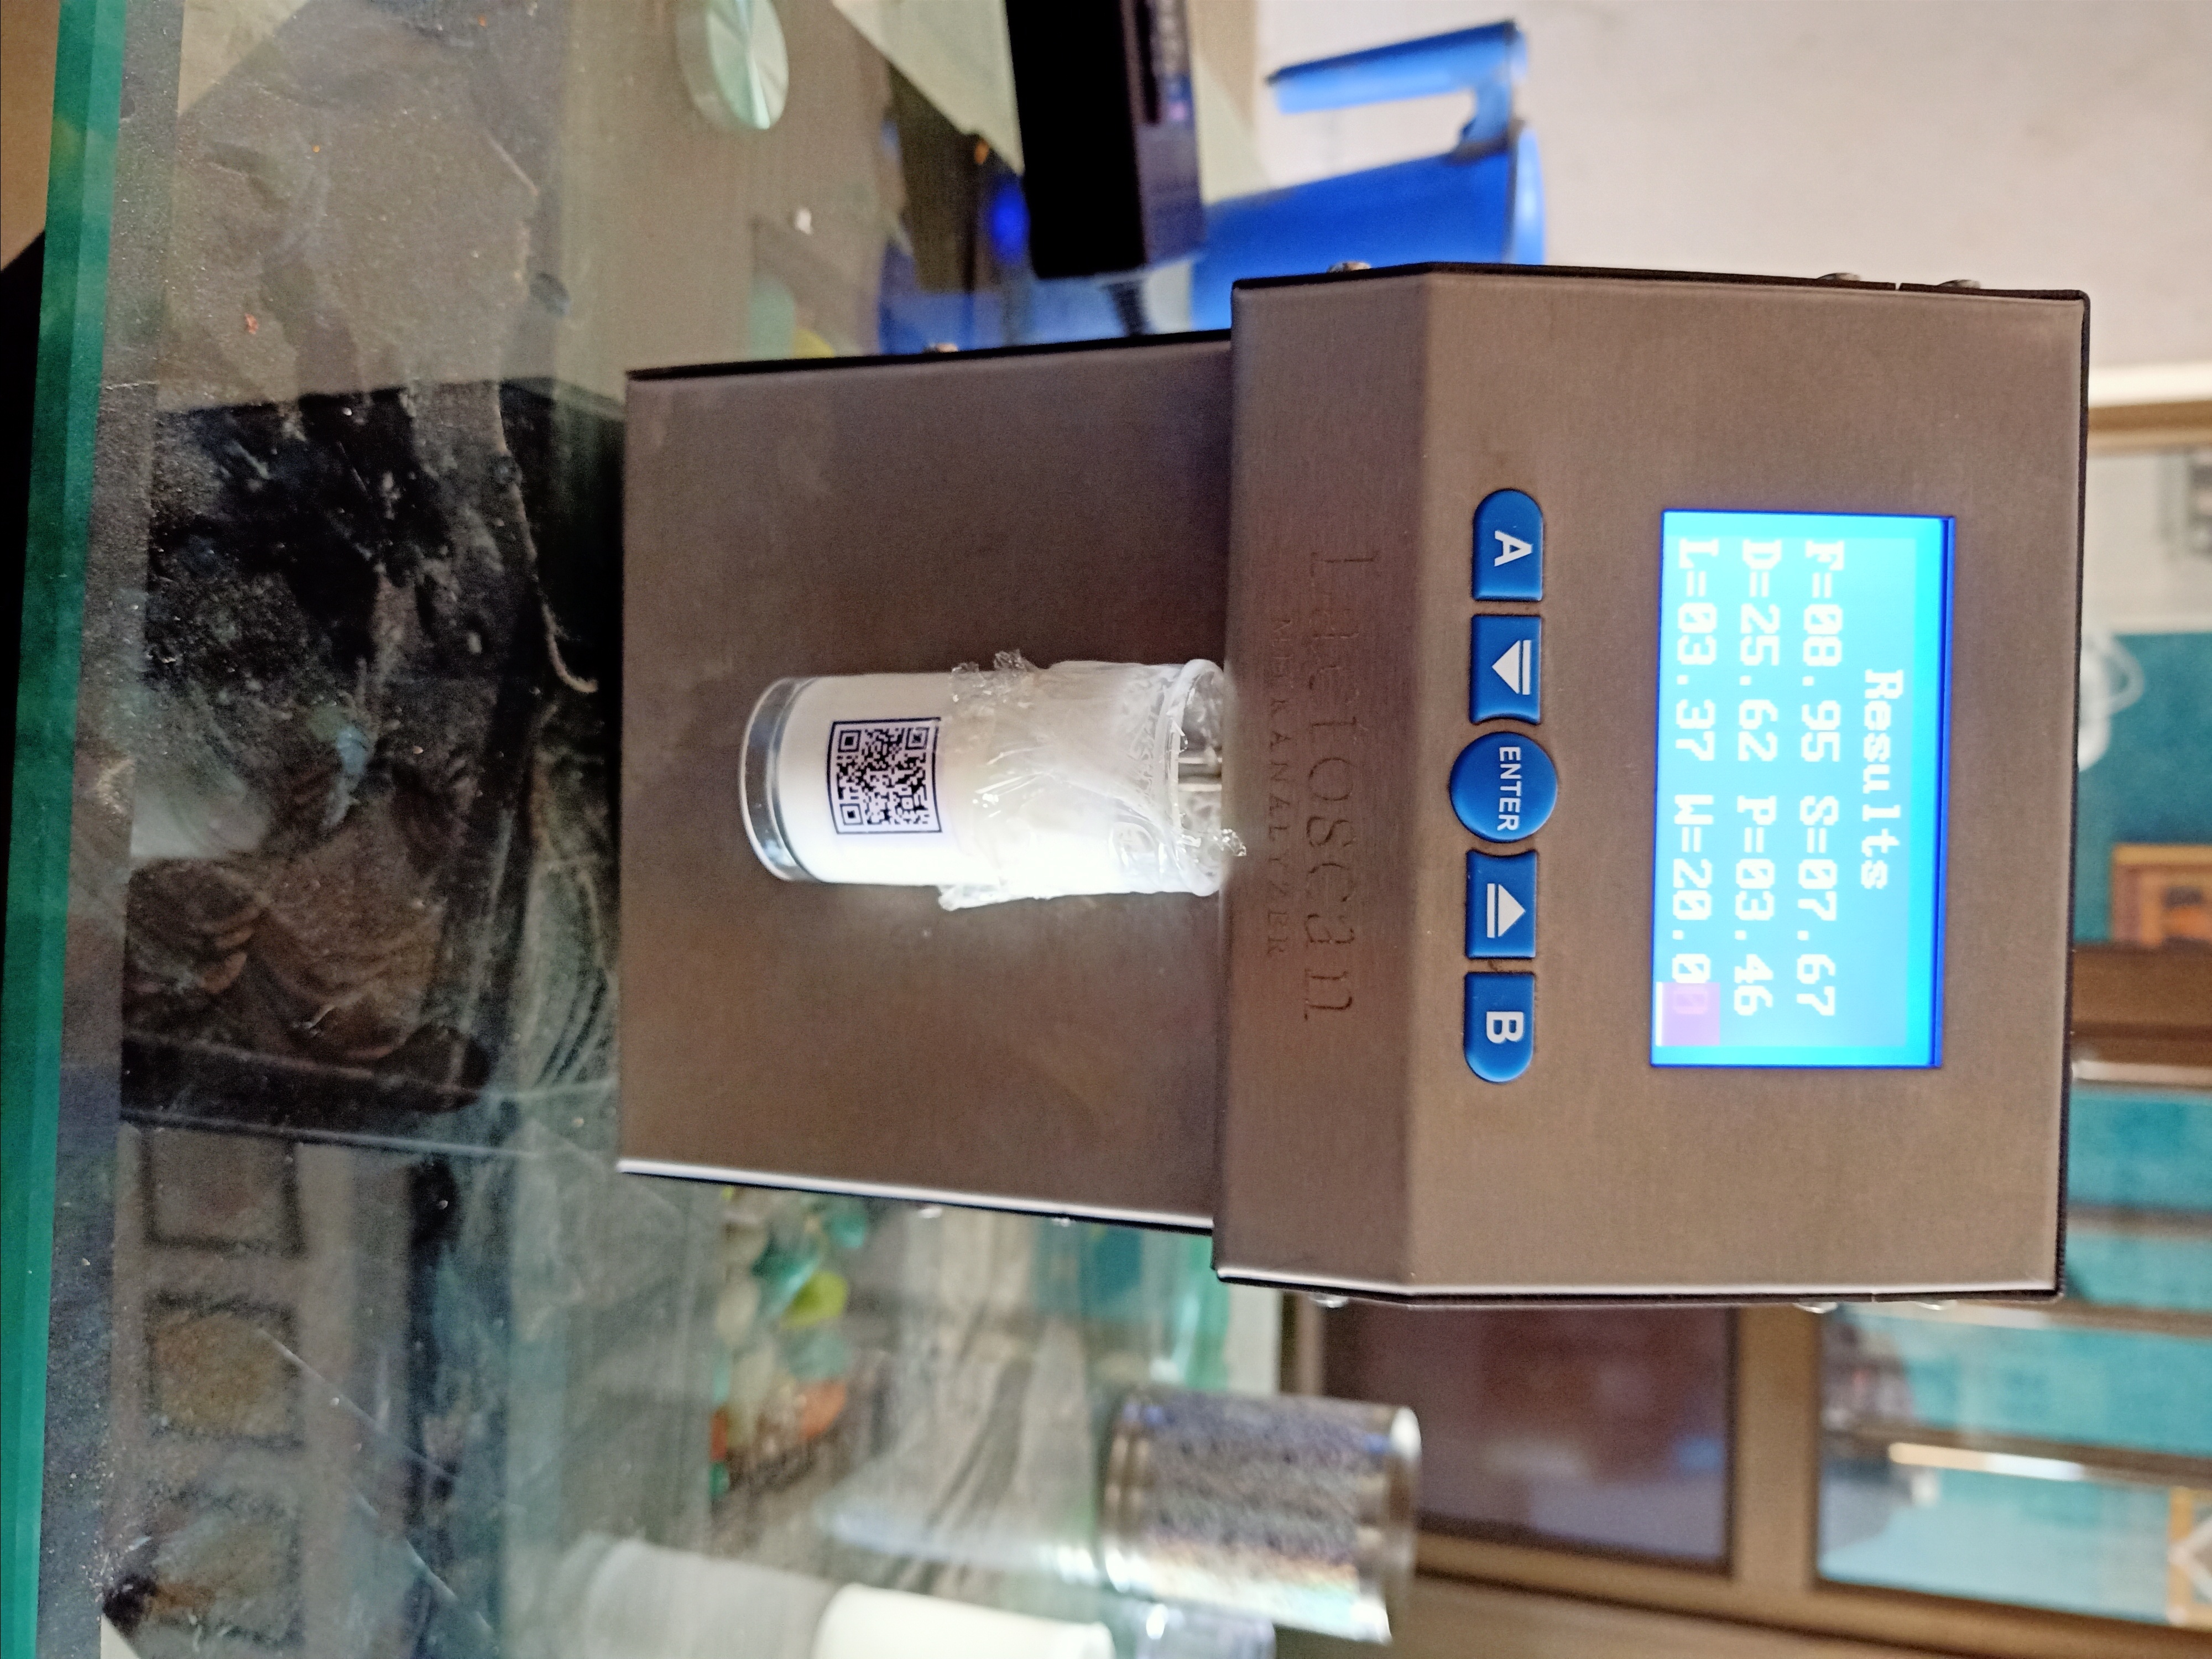lcd: (1635, 484, 1966, 1107)
qr: (815, 701, 968, 852)
